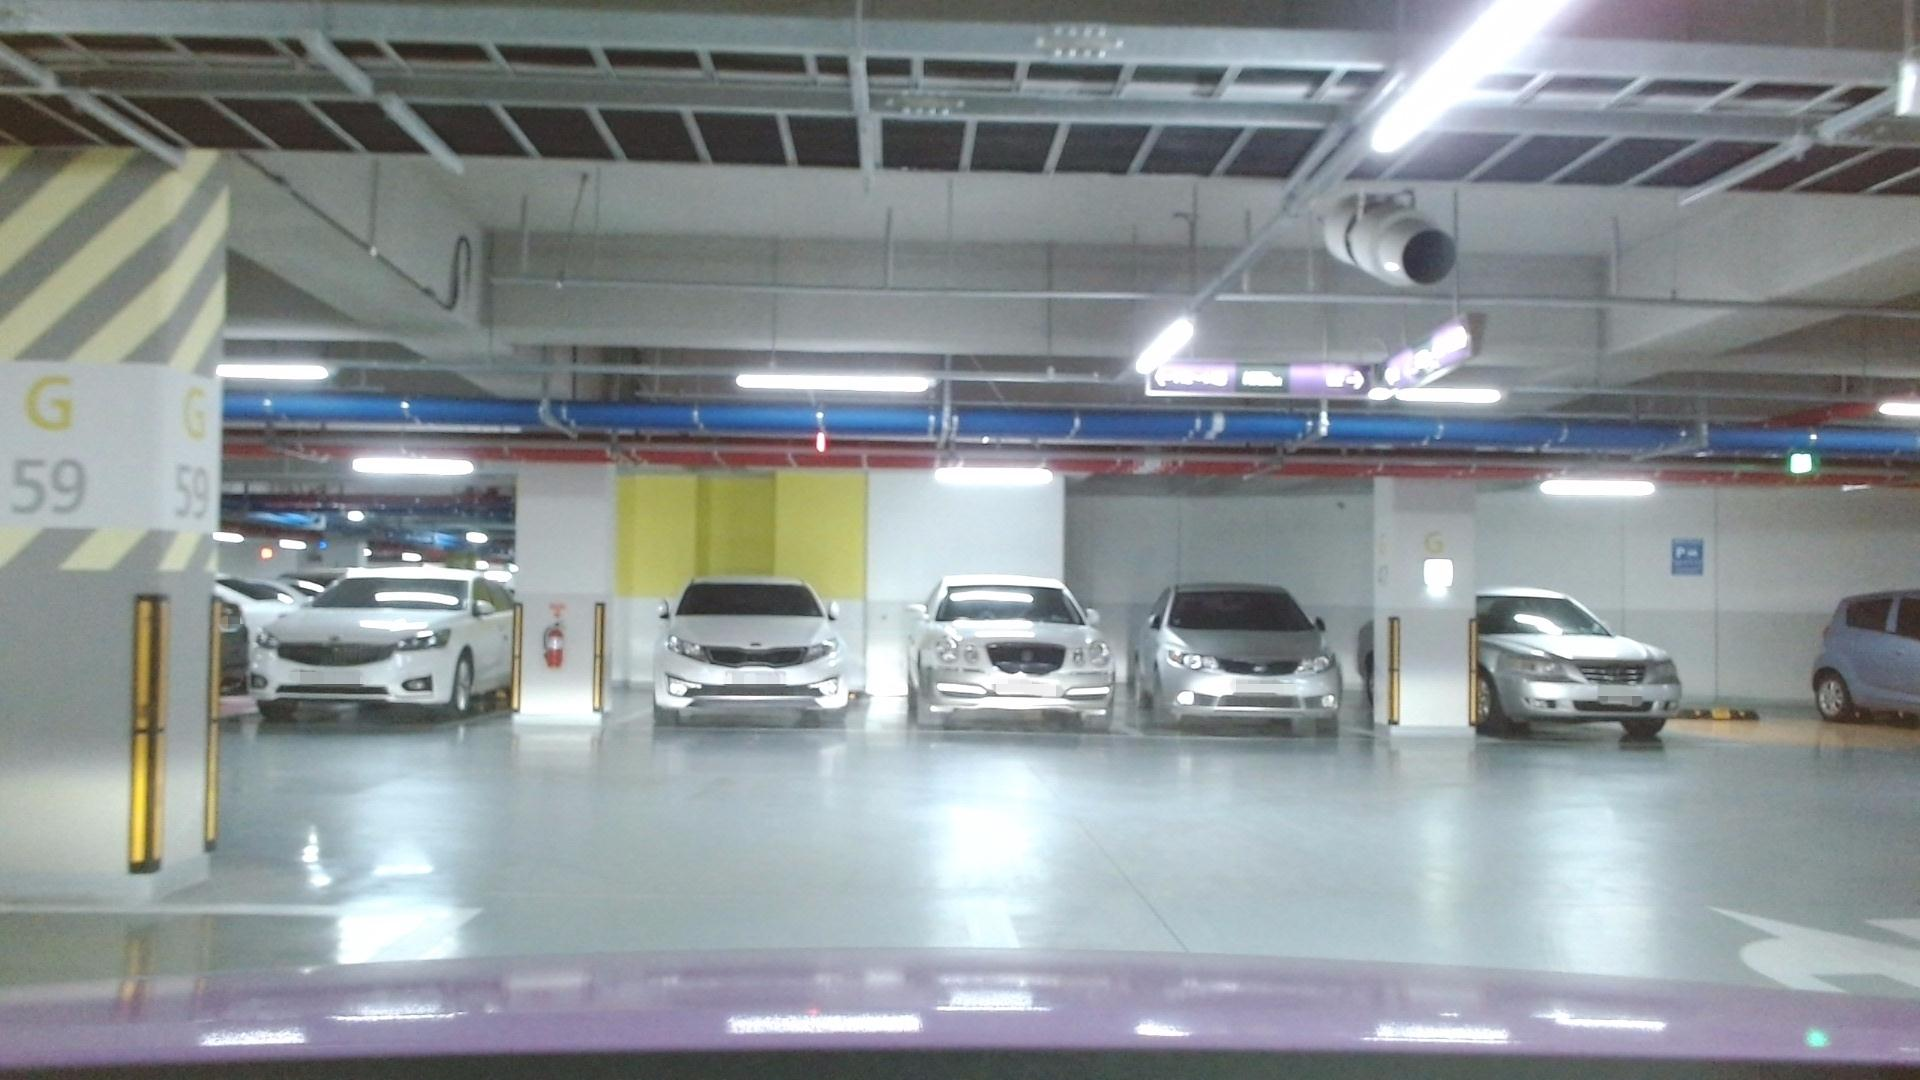empty: (1670, 690, 1895, 750)
occupied: (250, 565, 520, 725), (905, 575, 1120, 745), (650, 580, 875, 740), (1470, 585, 1685, 745), (1135, 575, 1340, 740)
